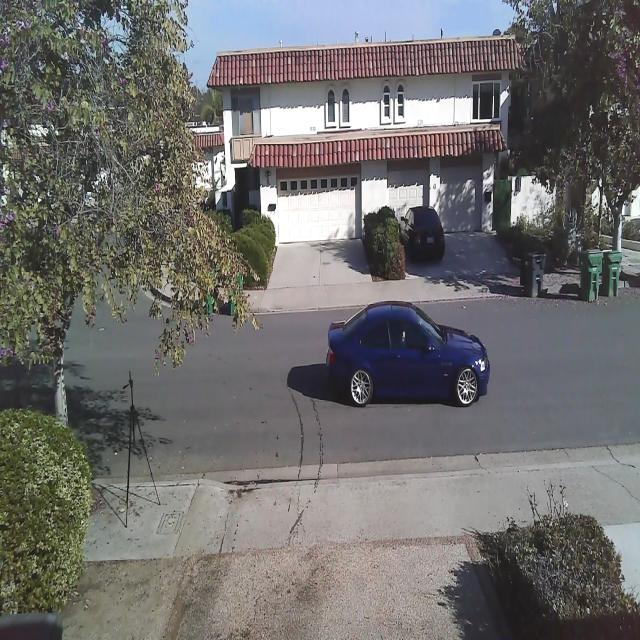Carbeetle: (316, 302, 495, 420)
Civilian: (397, 206, 445, 264)
